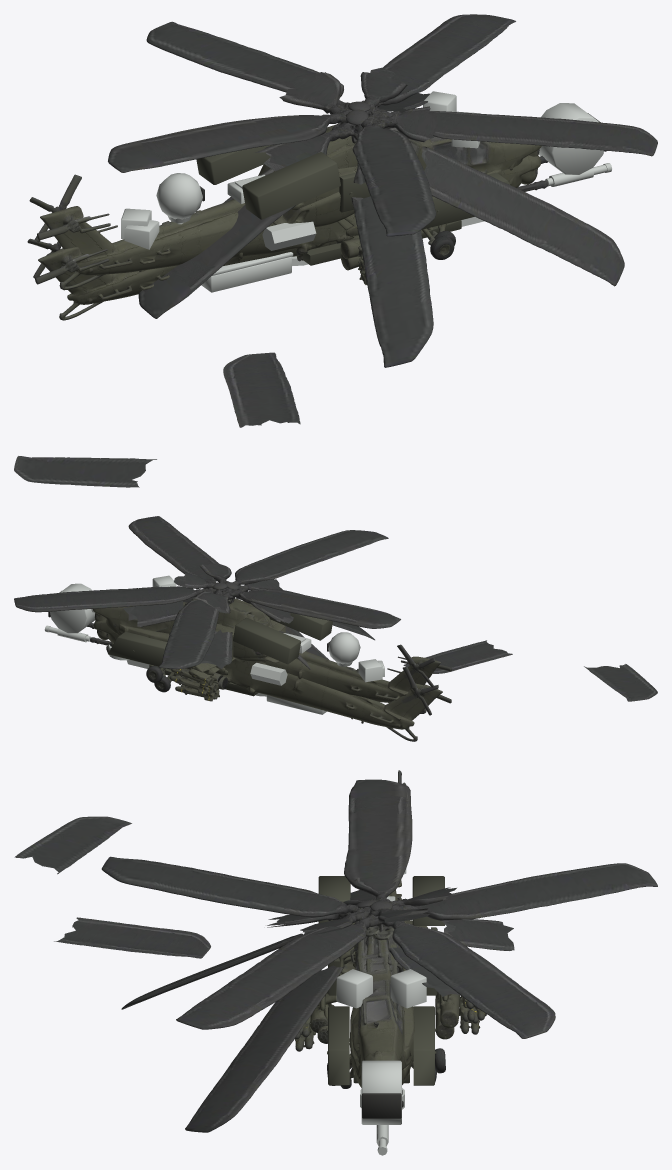
File: heli_peten.glb
3 views of the same model, one above another, from view 1: azimuth 30°, elevation 25°; view 2: azimuth 150°, elevation 25°; view 3: azimuth 270°, elevation 25° (orthographic). The views are drawn at different scales.
Parts seen in each view (by area): view 1: WRECK_rotor_metal, rotor_metal, hull_hull, WRECK_hull_hull, kit_armour_2_hull_hull, kit_sensors_2_hull_hull, kit_sensors_3_hull_hull, kit_firepower_2_hull_metal, kit_sensors_1_hull_glass, kit_armour_3_hull_hull, kit_armour_1_hull_hull; view 2: rotor_metal, WRECK_hull_hull, WRECK_rotor_metal, hull_hull, kit_armour_2_hull_hull, kit_armour_3_hull_hull, kit_sensors_2_hull_hull, kit_sensors_3_hull_hull, kit_sensors_1_hull_glass, hull_glass, kit_firepower_2_hull_metal; view 3: rotor_metal, WRECK_rotor_metal, WRECK_hull_hull, kit_armour_3_hull_hull, kit_sensors_1_hull_glass, hull_hull, kit_sensors_2_hull_hull, kit_armour_2_hull_hull, hull_glass, WRECK_hull_glass.
Boxes of the visible parts, x1,y1,x2,y2 form: WRECK_rotor_metal: [14, 67, 624, 487]; rotor_metal: [108, 14, 657, 236]; hull_hull: [29, 155, 541, 290]; WRECK_hull_hull: [27, 136, 541, 320]; kit_armour_2_hull_hull: [196, 145, 340, 219]; kit_sensors_2_hull_hull: [121, 91, 480, 250]; kit_sensors_3_hull_hull: [156, 173, 265, 224]; kit_firepower_2_hull_metal: [201, 217, 483, 292]; kit_sensors_1_hull_glass: [538, 103, 606, 174]; kit_armour_3_hull_hull: [302, 172, 510, 265]; kit_armour_1_hull_hull: [339, 172, 370, 212]; rotor_metal: [14, 516, 400, 669]; WRECK_hull_hull: [93, 602, 451, 741]; WRECK_rotor_metal: [123, 563, 657, 701]; hull_hull: [93, 619, 451, 713]; kit_armour_2_hull_hull: [233, 613, 332, 664]; kit_armour_3_hull_hull: [108, 632, 258, 696]; kit_sensors_2_hull_hull: [152, 575, 384, 685]; kit_sensors_3_hull_hull: [283, 632, 360, 666]; kit_sensors_1_hull_glass: [48, 583, 94, 633]; hull_glass: [185, 598, 270, 627]; kit_firepower_2_hull_metal: [127, 660, 326, 714]; rotor_metal: [101, 779, 657, 1038]; WRECK_rotor_metal: [14, 816, 514, 1132]; WRECK_hull_hull: [295, 894, 486, 1088]; kit_armour_3_hull_hull: [327, 1006, 436, 1085]; kit_sensors_1_hull_glass: [361, 1060, 401, 1124]; hull_hull: [299, 770, 480, 1087]; kit_sensors_2_hull_hull: [336, 869, 426, 1008]; kit_armour_2_hull_hull: [318, 876, 444, 925]; hull_glass: [365, 920, 406, 972]; WRECK_hull_glass: [350, 921, 389, 969].
Bounding box in the file's own units: 6.31 × 1.32 × 4.78.
1 material, 1 textured.
